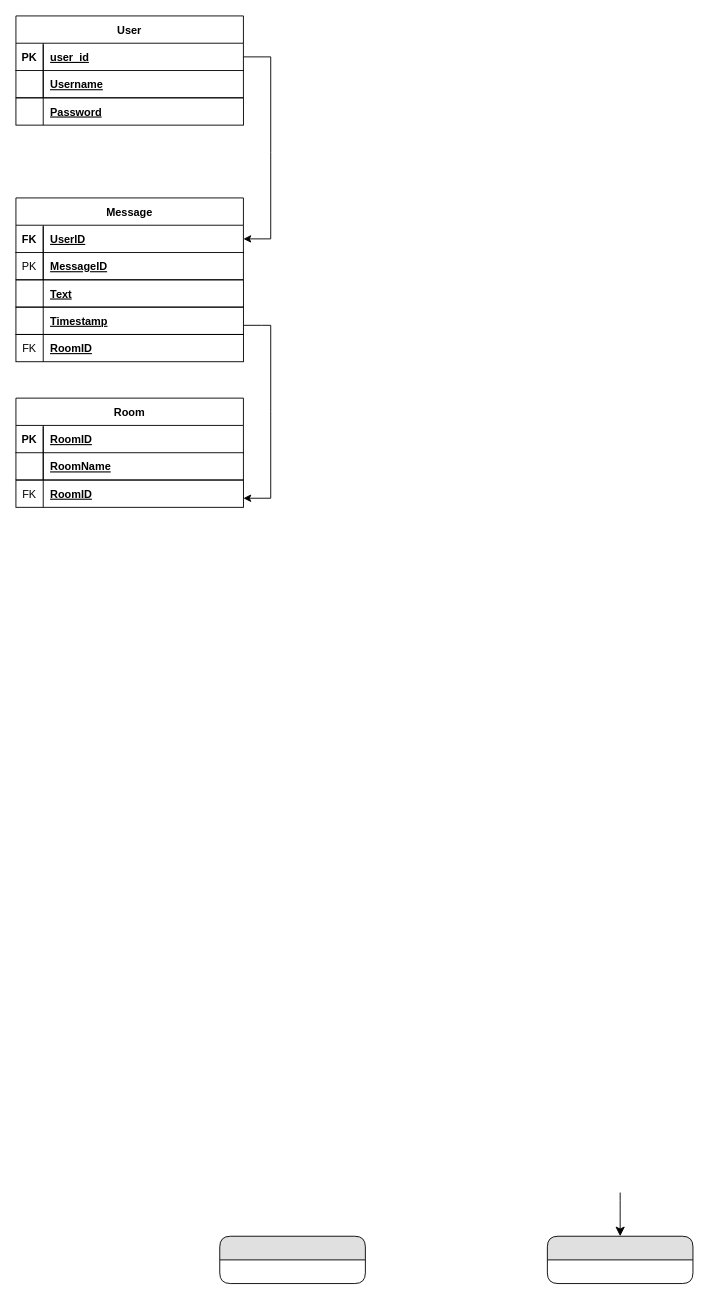
The diagram is 709 pixels wide and 1299 high, and some of its shapes have lost their labels. The centre of each missing label's shape, as x and y in pixels:
Login Failure Page: point (619, 1259)
Welcome Page: point (292, 1259)
